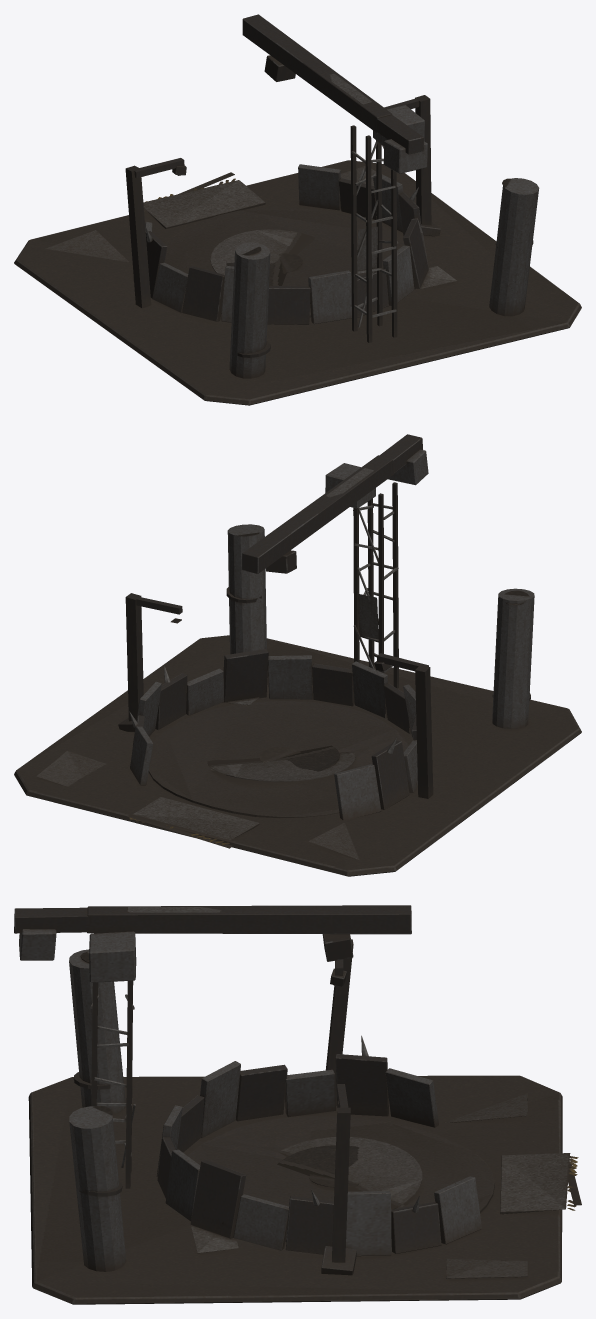
Rendered from chs_advbotlab_wreck.fbx.
3 renders of one model, top to bottom at view 1: azimuth 30°, elevation 25°; view 2: azimuth 150°, elevation 25°; view 3: azimuth 270°, elevation 25°, orthographic. The views are drawn at different scales.
Visible parts, largest first — view 1: base_bar; view 2: base_bar; view 3: base_bar.
Part boxes in pixels (bbox=[...]): base_bar: bbox=[14, 14, 581, 405]; base_bar: bbox=[14, 434, 581, 876]; base_bar: bbox=[14, 905, 581, 1304].
Size of the model in its own units: 3905 by 2475 by 4182.
2 materials, 2 textured.
